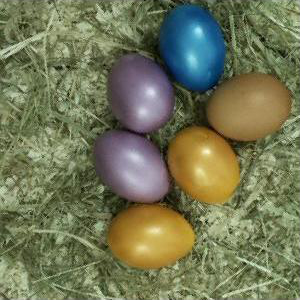egg: (165, 125, 240, 204), (108, 203, 196, 270), (159, 5, 226, 92), (207, 73, 292, 141), (93, 130, 171, 203), (108, 54, 175, 133)
